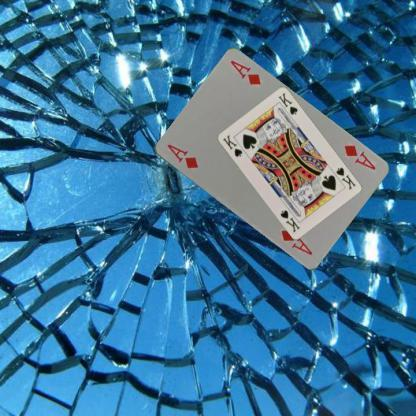Ad: (341, 142, 377, 172), (164, 141, 199, 170)
Ks: (220, 132, 243, 158), (334, 164, 356, 190)
